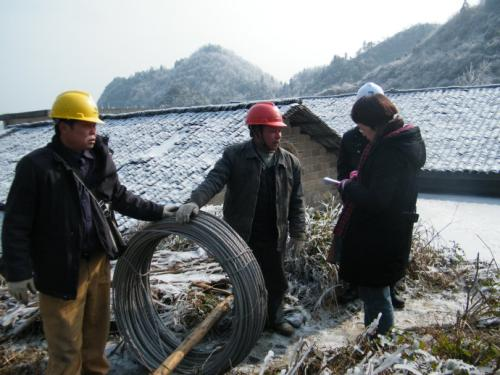boots: (267, 320, 295, 336), (390, 288, 405, 309)
gloves: (6, 276, 37, 305), (175, 201, 199, 224), (287, 237, 306, 260), (162, 202, 180, 217), (336, 178, 352, 193)
hard-hat: (49, 89, 105, 123), (245, 102, 288, 128)
person: (1, 90, 180, 375), (175, 101, 308, 336), (326, 92, 427, 339)
